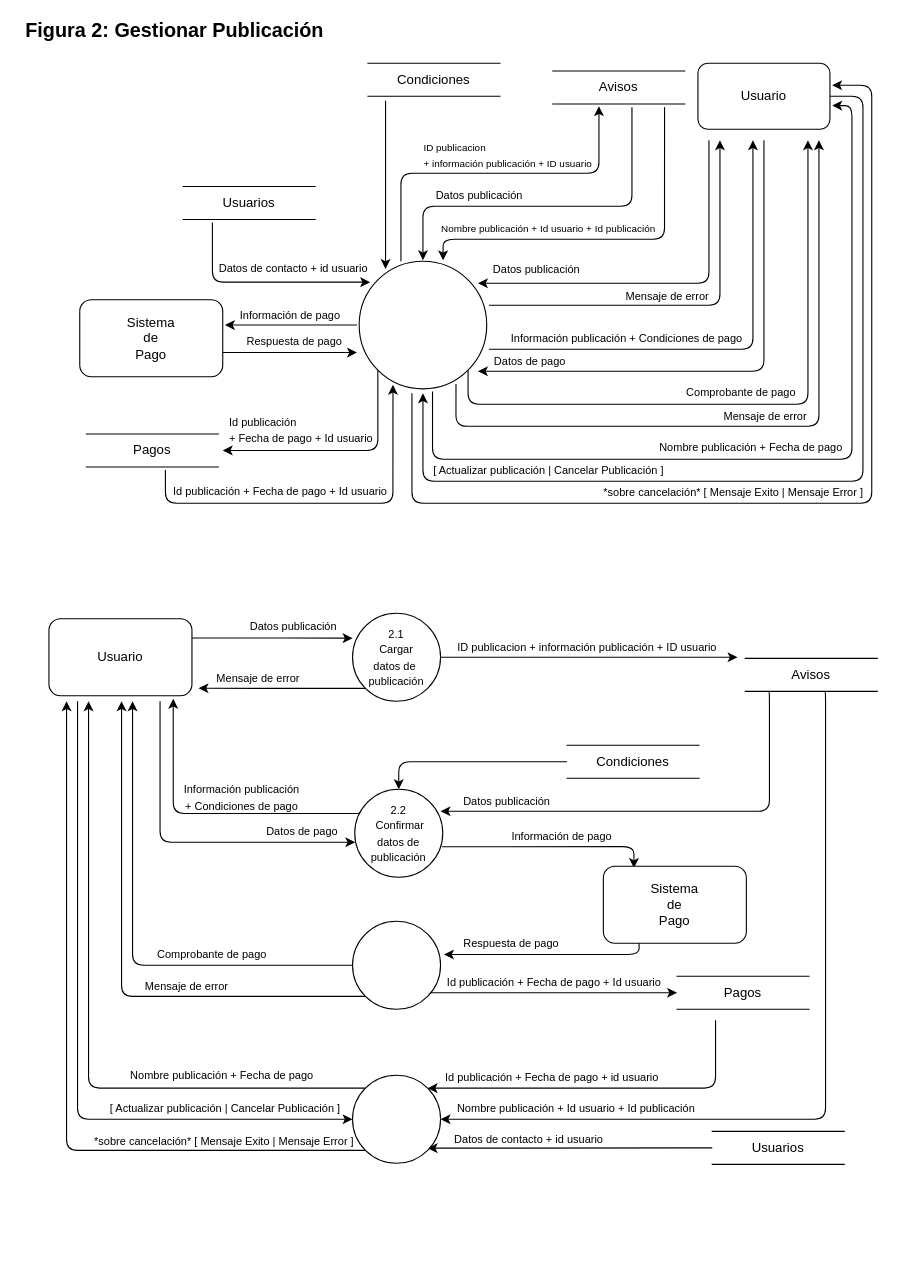
Image size: 900x1276. Some labels were removed from this diagram. The shapes that lost their labels are listed below. From the top down, each one's centre as x and y in pixels, then its label:
At (x=422, y=324): "2 Gestionar Publicación".
At (x=396, y=964): "2.3 Recibir respuesta de pago".
At (x=396, y=1118): "2.4 Gestionar publicaciones vencidas".
